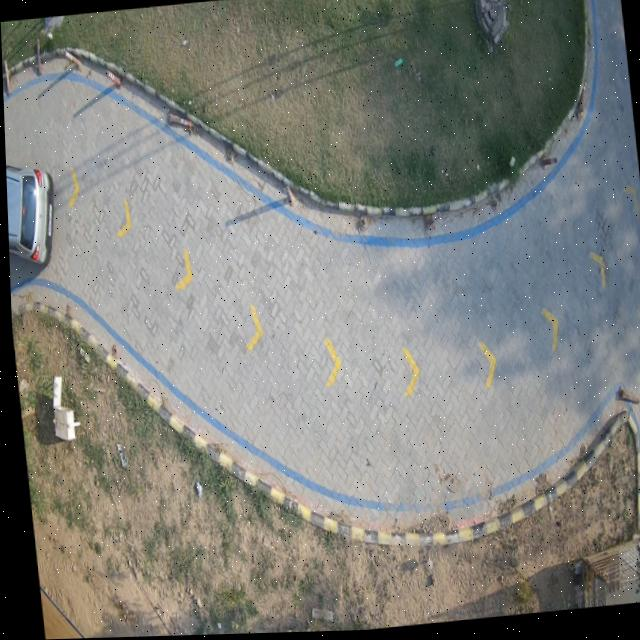car: (5, 164, 52, 264)
